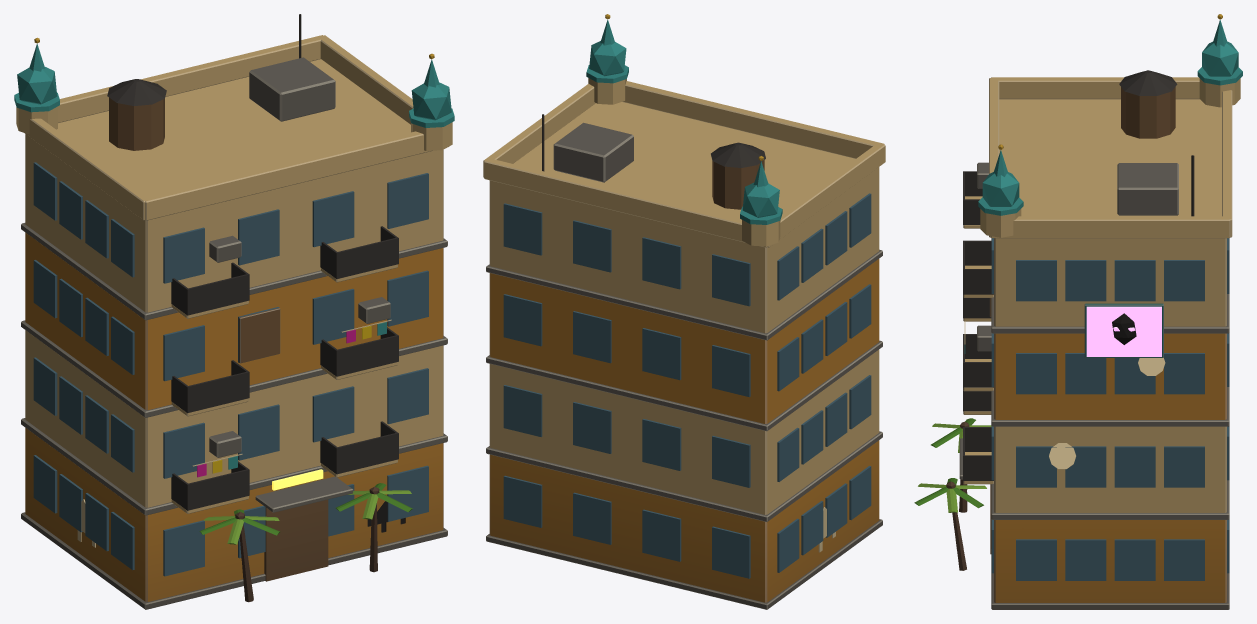
File: n_apartment.glb
The picture shows the model from 3 angles, left to right: view 1: azimuth 30°, elevation 25°; view 2: azimuth 150°, elevation 25°; view 3: azimuth 270°, elevation 25°; orthographic projection. The views are drawn at different scales.
Parts seen in each view (by area): view 1: n_apartment; view 2: n_apartment; view 3: n_apartment.
Boxes of the visible parts, x1,y1,x2,y2 form: n_apartment: (14,14,454,609); n_apartment: (483,14,885,609); n_apartment: (914,14,1242,609).
Bounding box in the file's own units: 10.34 × 14.87 × 9.59.
